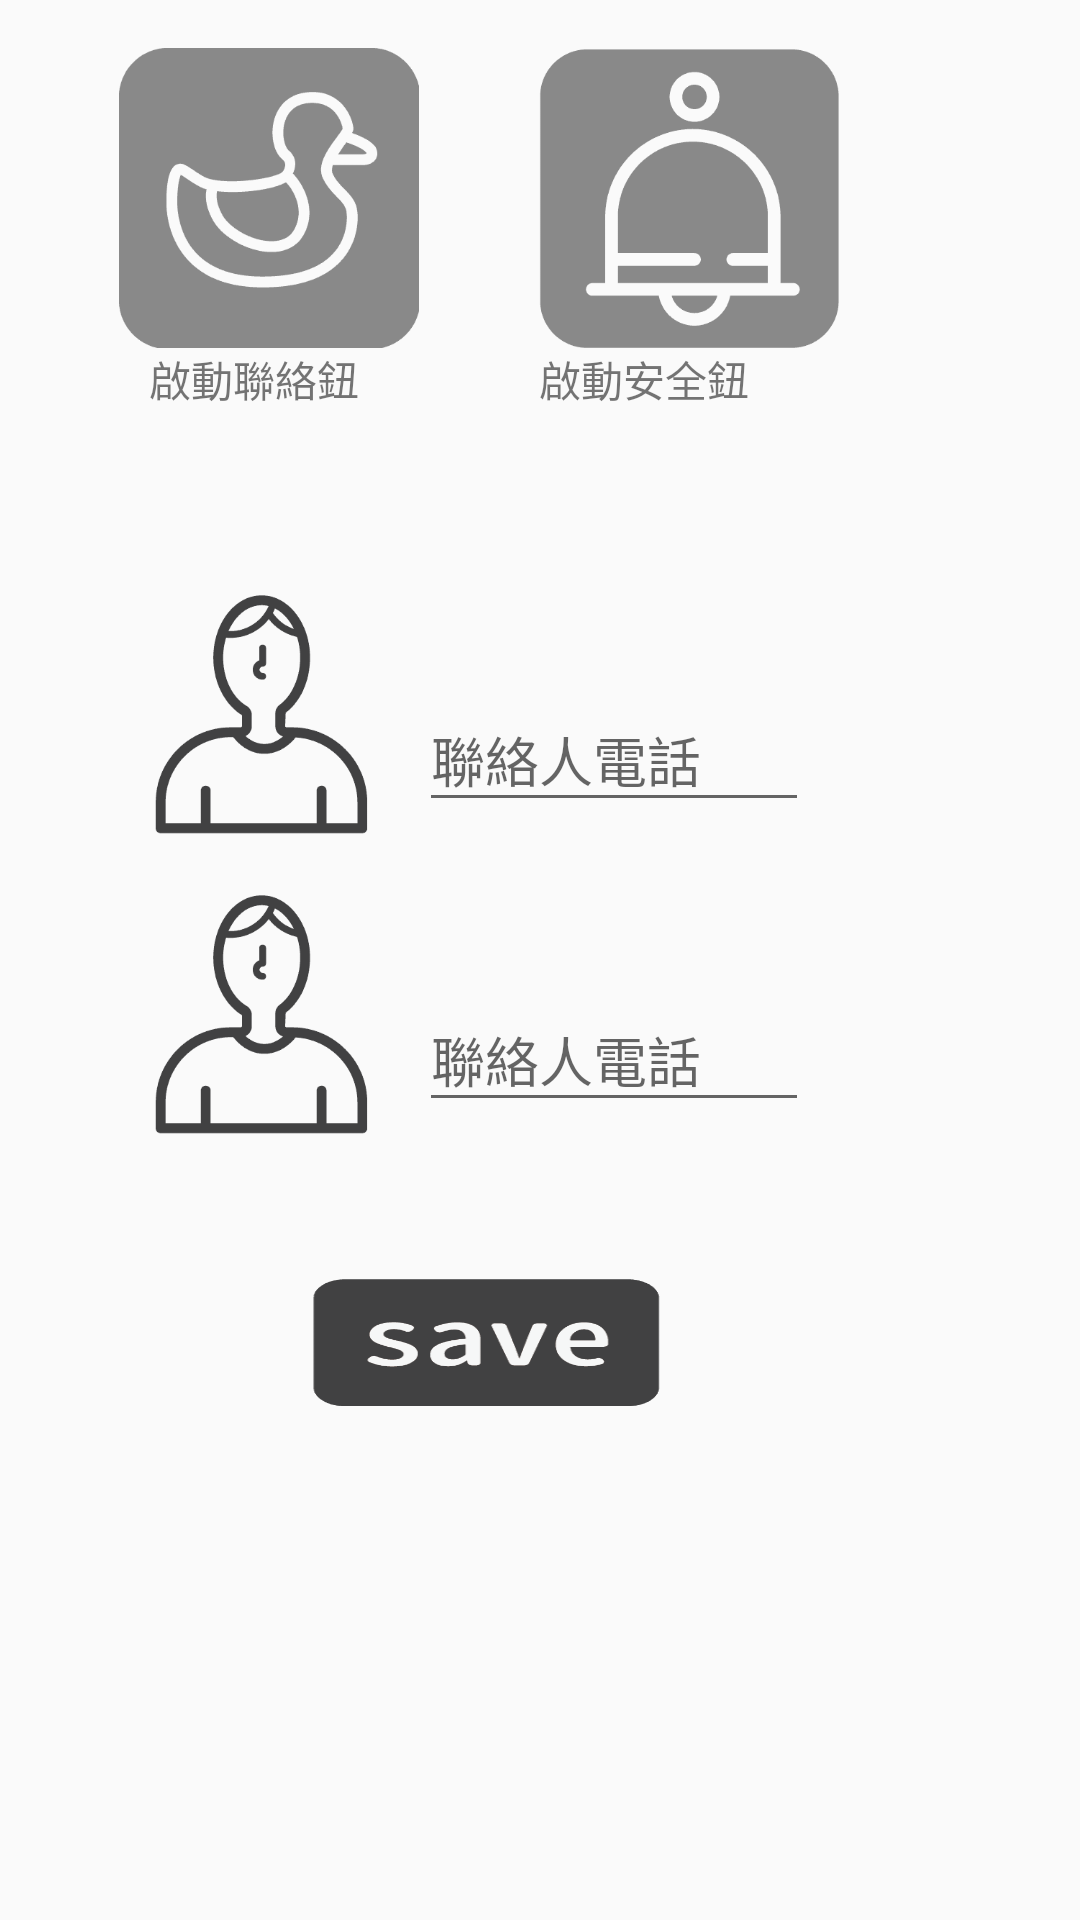

Where icons sit on this 1080*1920 app screen, as (x1, y1, x2, y2):
contact: (155, 595, 367, 834), (155, 895, 367, 1134)
